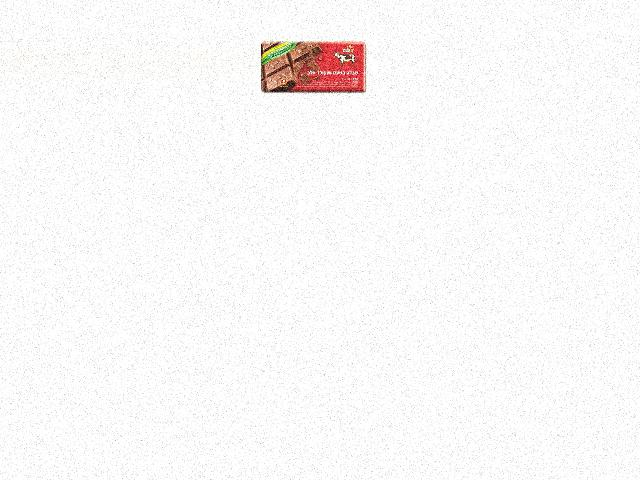chocolate: (260, 40, 368, 95)
